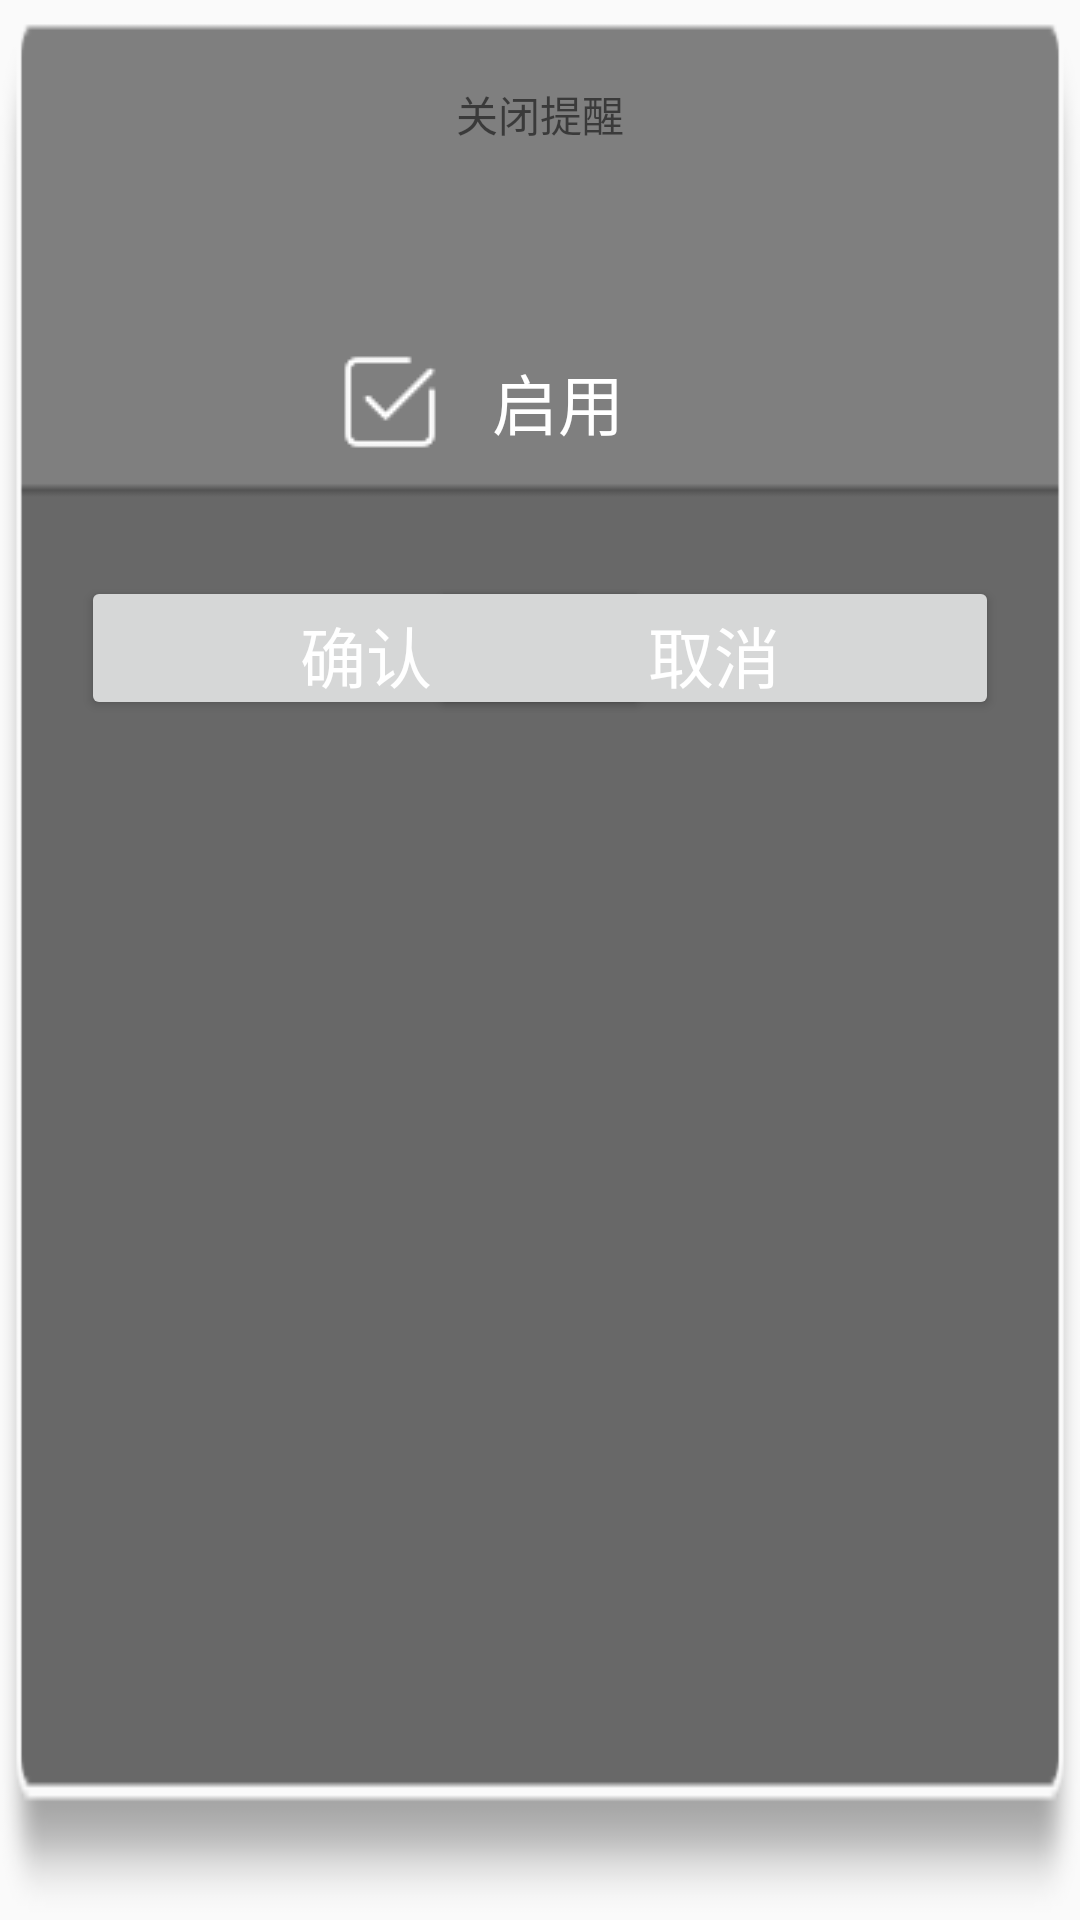

Icon click points for this 1080 × 1920 phone screenshot, format [x,y]:
execution: [390,402]
